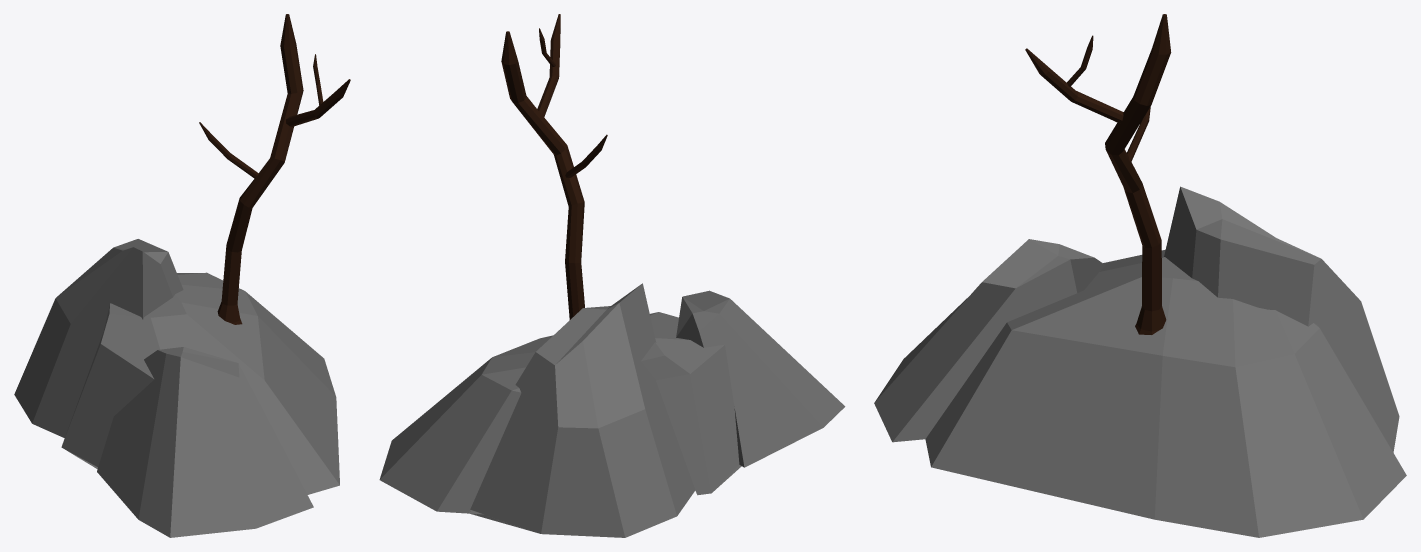
The model's file is rock_ob_04.fbx.
3 renders of one model, left to right at view 1: azimuth 30°, elevation 25°; view 2: azimuth 150°, elevation 25°; view 3: azimuth 270°, elevation 25°, orthographic. The views are drawn at different scales.
Parts seen in each view (by area): view 1: Cylinder, Cylinder.001; view 2: Cylinder, Cylinder.001; view 3: Cylinder, Cylinder.001.
Boxes of the visible parts, x1=… form: Cylinder: x1=14, y1=239, x2=339, y2=537; Cylinder.001: x1=199, y1=14, x2=350, y2=324; Cylinder: x1=379, y1=283, x2=845, y2=537; Cylinder.001: x1=501, y1=14, x2=607, y2=320; Cylinder: x1=874, y1=186, x2=1406, y2=537; Cylinder.001: x1=1025, y1=14, x2=1171, y2=334.
Bounding box in the file's own units: 1392 × 1707 × 1723.
